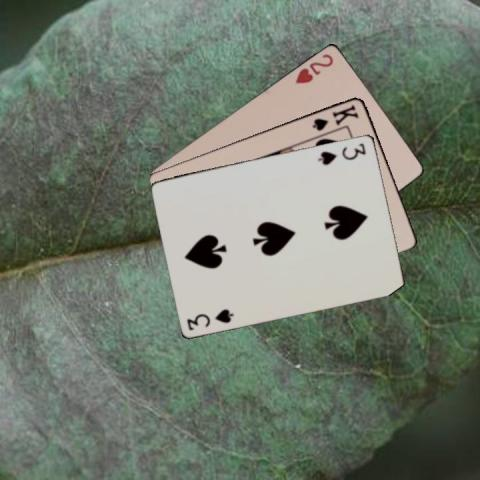2h: (292, 50, 335, 85)
3s: (316, 140, 368, 167), (184, 306, 235, 332)
Ks: (309, 101, 360, 132)
